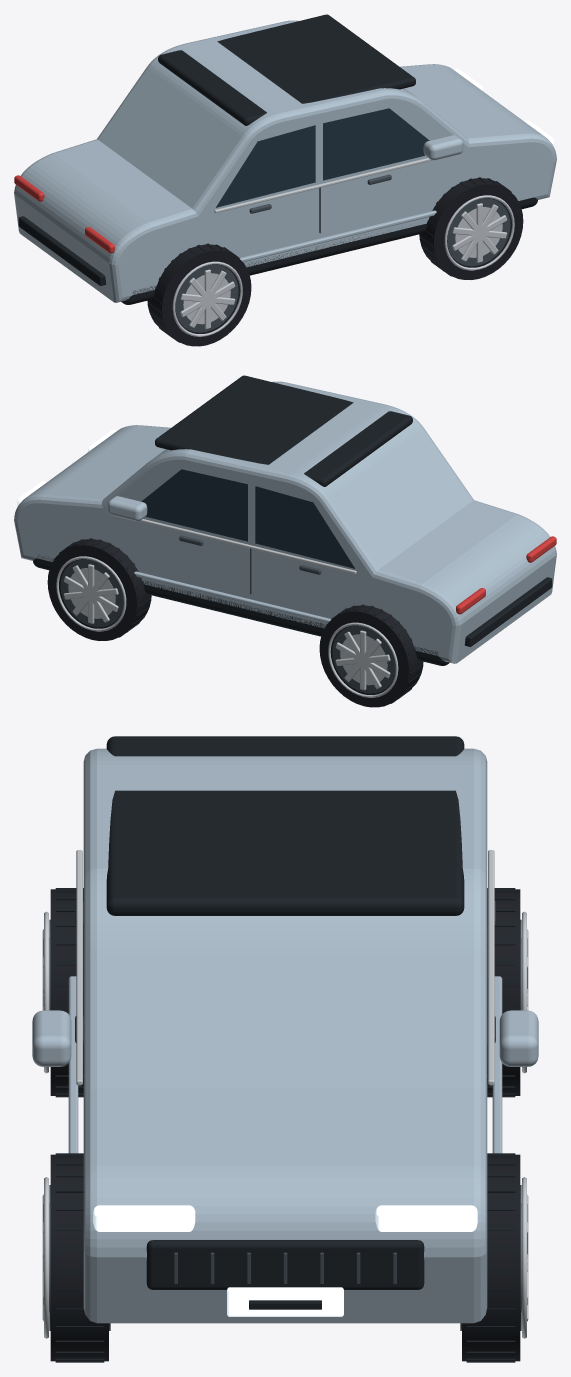
Rendered from rovny-touring.glb.
The picture shows the model from 3 angles, top to bottom: view 1: azimuth 30°, elevation 25°; view 2: azimuth 150°, elevation 25°; view 3: azimuth 270°, elevation 25°; orthographic projection. The views are drawn at different scales.
Parts seen in each view (by area): view 1: Monocoque, Wheel (×2), Panoramic roof, Front side glass, Rear side glass, Lower sills, Rear diffuser, Side skirt trim, Window belt trim, Side mirror; view 2: Monocoque, Wheel (×2), Panoramic roof, Front side glass, Rear side glass, Lower sills, Rear diffuser, Side skirt trim, Window belt trim, Side mirror; view 3: Monocoque, Panoramic roof, Wheel (×4), Front grille, LED headlamp (×2), Side mirror (×2), Window belt trim (×2), Side skirt trim (×2), Number plate.
Part boxes in pixels (left/top/right/bottom): Monocoque: left=14, top=20, right=556, bottom=302; Wheel (×2): left=147, top=177, right=523, bottom=346; Panoramic roof: left=158, top=14, right=415, bottom=125; Front side glass: left=323, top=108, right=429, bottom=180; Rear side glass: left=216, top=125, right=315, bottom=207; Lower sills: left=121, top=197, right=537, bottom=304; Rear diffuser: left=18, top=216, right=106, bottom=285; Side skirt trim: left=239, top=210, right=436, bottom=262; Window belt trim: left=214, top=158, right=431, bottom=212; Side mirror: left=423, top=135, right=463, bottom=160; Monocoque: left=14, top=381, right=556, bottom=663; Wheel (×2): left=47, top=538, right=423, bottom=707; Panoramic roof: left=155, top=375, right=412, bottom=486; Front side glass: left=141, top=469, right=247, bottom=541; Rear side glass: left=255, top=486, right=354, bottom=568; Lower sills: left=33, top=554, right=449, bottom=665; Rear diffuser: left=464, top=577, right=552, bottom=646; Side skirt trim: left=134, top=571, right=331, bottom=623; Window belt trim: left=139, top=519, right=356, bottom=573; Side mirror: left=107, top=496, right=147, bottom=521; Monocoque: left=83, top=748, right=487, bottom=1323; Panoramic roof: left=106, top=736, right=464, bottom=915; Wheel (×4): left=42, top=888, right=528, bottom=1362; Front grille: left=146, top=1240, right=424, bottom=1289; LED headlamp (×2): left=93, top=1205, right=477, bottom=1231; Side mirror (×2): left=32, top=1010, right=538, bottom=1066; Window belt trim (×2): left=76, top=850, right=494, bottom=1085; Side skirt trim (×2): left=68, top=976, right=502, bottom=1153; Number plate: left=227, top=1287, right=343, bottom=1316.
Size of the model in its own units: 4.35 by 1.85 by 2.08.
